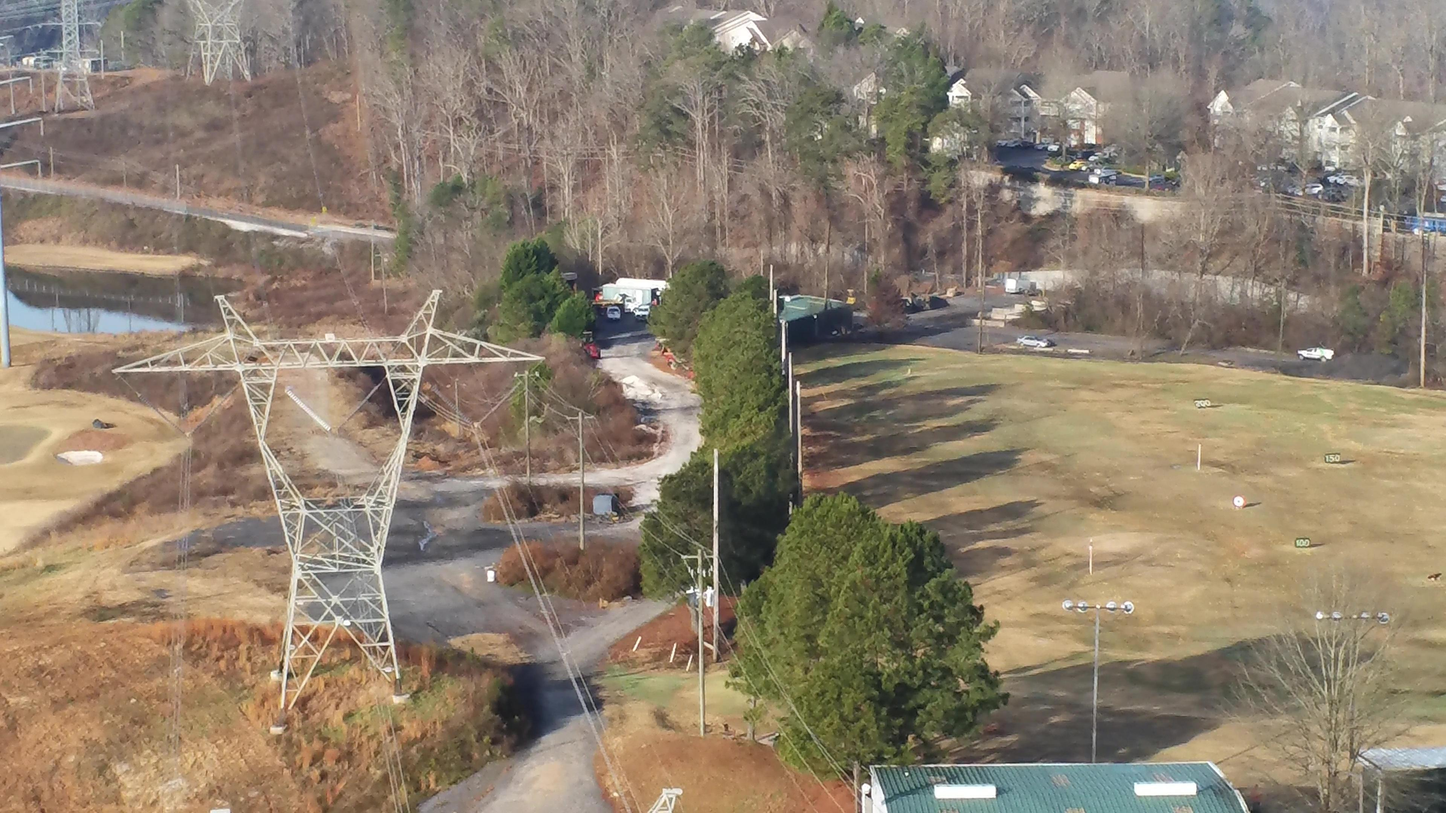power_tower: (112, 289, 546, 721), (45, 0, 100, 105), (186, 0, 248, 86)
